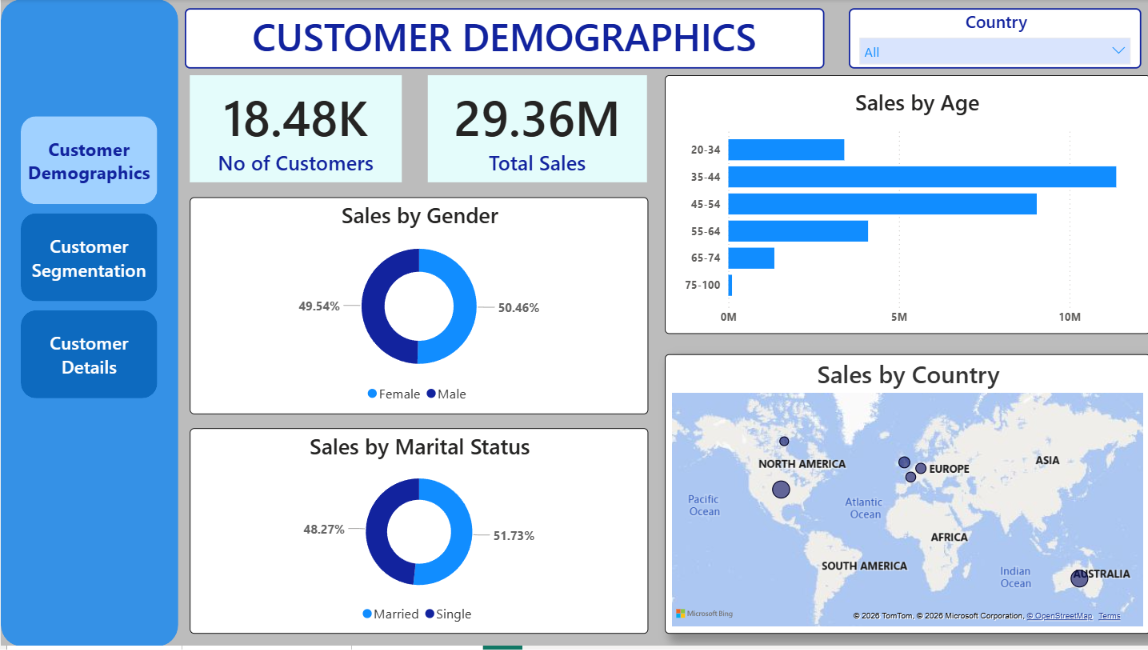

The dashboard page shown, as its layout file describes it:
{"tool":"powerbi","page":{"name":"Customer Demographics","canvas":[1280,720],"ordinal":0},"visuals":[{"type":"shape","box":[0,0,197.6,720.4],"z":0},{"type":"card","fields":{"Values":["Sum(FactInternetSales.SalesAmount)"]},"box":[475.7,85.1,244.3,119.4],"z":1000},{"type":"card","fields":{"Values":["Count(FactInternetSales.CustomerKey)"]},"box":[209.9,85.1,236,119.4],"z":2000},{"type":"donutChart","title":"Sales by Gender","fields":{"Category":["DimCustomer.Gender"],"Y":["Sum(FactInternetSales.SalesAmount)"]},"box":[209.9,220.9,510.5,241.5],"z":3000},{"type":"donutChart","title":"Sales by Marital Status","fields":{"Category":["DimCustomer.MaritalStatus"],"Y":["Sum(FactInternetSales.SalesAmount)"]},"box":[209.9,477.5,510.5,229.2],"z":4000},{"type":"barChart","title":"Sales by Age","fields":{"Category":["age order table.age band"],"Y":["Sum(FactInternetSales.SalesAmount)"]},"box":[739.6,85.1,540.7,288.2],"z":5000},{"type":"map","title":"Sales by Country","fields":{"Size":["Sum(FactInternetSales.SalesAmount)"],"Category":["DimGeography.EnglishCountryRegionName"]},"box":[739.6,395.2,540.7,311.5],"z":6000},{"type":"pageNavigator","box":[22,130.4,152.3,315.6],"z":7000},{"type":"textbox","box":[204.5,9.6,712.2,67.2],"z":8000},{"type":"slicer","title":"Country","fields":{"Values":["DimGeography.EnglishCountryRegionName"]},"box":[944.1,9.6,325.2,67.2],"z":9000}]}

Visuals, with their boxes in screenshot pixels (x1, y1, x2, y2), scaled from the page's 1280x720 canvas onto the 1148x650 screenshot:
shape: [0,0,177,649]
card - Sum(FactInternetSales.SalesAmount): [427,77,646,185]
card - Count(FactInternetSales.CustomerKey): [188,77,400,185]
"Sales by Gender" donutChart: [188,199,646,417]
"Sales by Marital Status" donutChart: [188,431,646,638]
"Sales by Age" barChart: [663,77,1147,337]
"Sales by Country" map: [663,357,1147,638]
pageNavigator: [20,118,156,403]
textbox: [183,9,822,69]
"Country" slicer: [847,9,1138,69]
